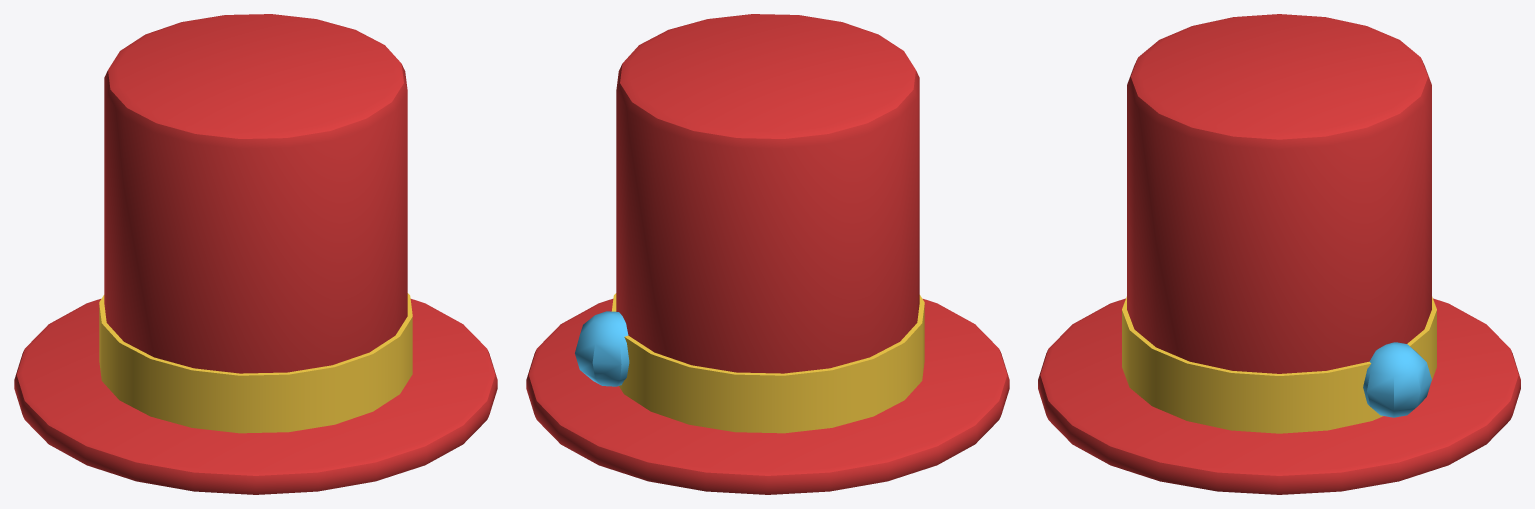
The model's file is AccTopHat.fbx.
3 renders of one model, left to right at view 1: azimuth 30°, elevation 25°; view 2: azimuth 150°, elevation 25°; view 3: azimuth 270°, elevation 25°, orthographic.
Parts seen in each view (by area): view 1: AccTopHat; view 2: AccTopHat; view 3: AccTopHat.
Boxes of the visible parts, x1,y1,x2,y2 form: AccTopHat: (14,14,497,494); AccTopHat: (526,14,1009,494); AccTopHat: (1038,14,1520,494).
Bounding box in the file's own units: 190 × 140 × 190.
